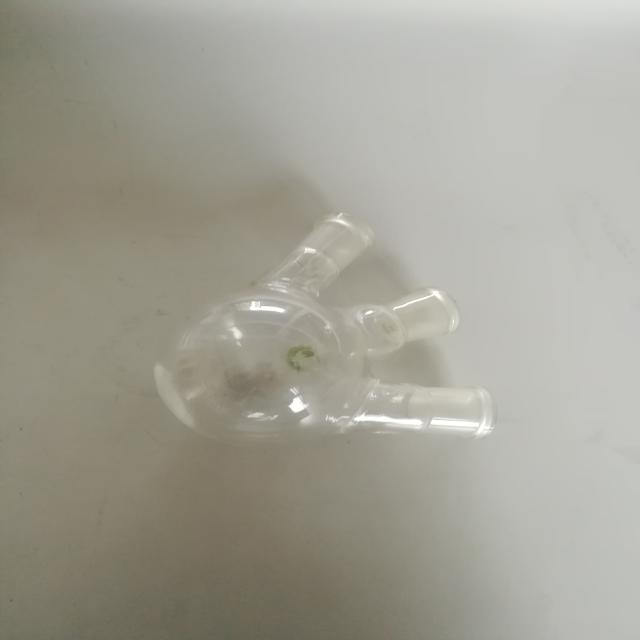Round_Bottom_Flask_Borosilicate_Glass_3_Neck: (127, 160, 518, 536)
